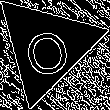O_N: (19, 16, 74, 77)
